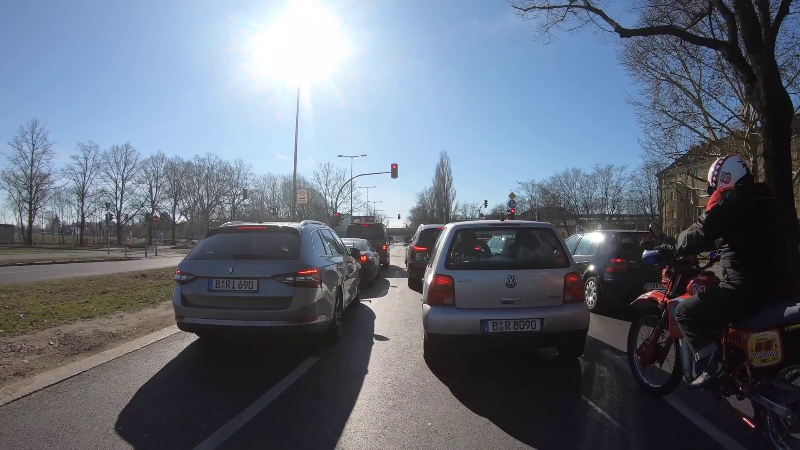Plate: (478, 314, 546, 334), (205, 274, 261, 296)
